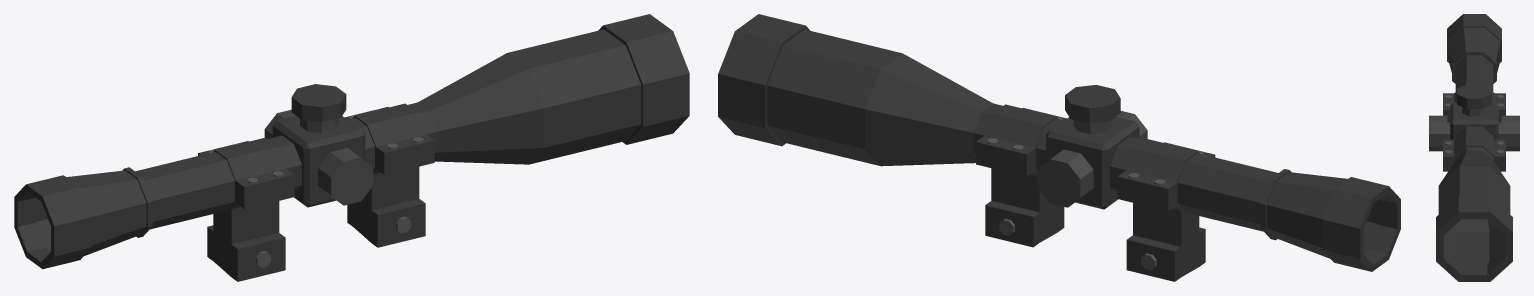
The model's file is Optic_08.fbx.
3 views of the same model, side by side, from view 1: azimuth 30°, elevation 25°; view 2: azimuth 150°, elevation 25°; view 3: azimuth 270°, elevation 25° (orthographic). The views are drawn at different scales.
Visible parts, largest first — view 1: Optic_08; view 2: Optic_08; view 3: Optic_08.
Boxes of the visible parts, x1=… form: Optic_08: x1=14, y1=14, x2=689, y2=281; Optic_08: x1=718, y1=14, x2=1400, y2=281; Optic_08: x1=1429, y1=14, x2=1519, y2=281.
Bounding box in the file's own units: 0.4217 × 0.0974 × 0.0776.
